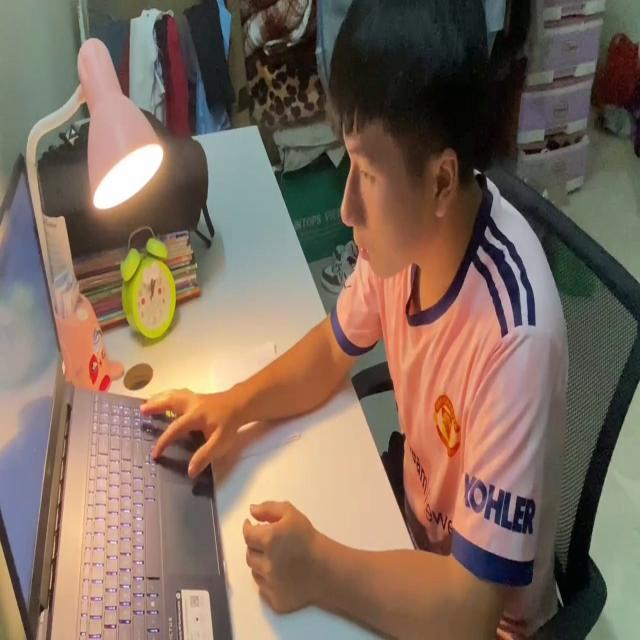book: (210, 340, 276, 390)
laptop: (0, 144, 232, 640)
student: (138, 0, 568, 640)
